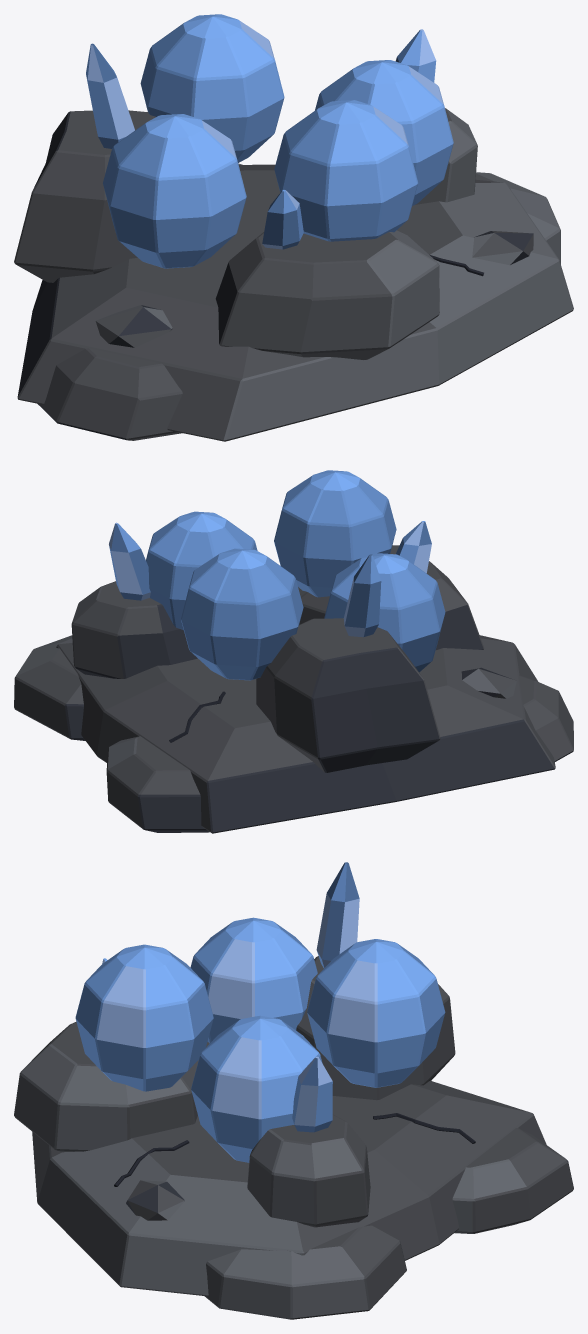
File: BH_ORE_O09_Safira_Sepulcral_V02.glb
The picture shows the model from 3 angles, top to bottom: view 1: azimuth 30°, elevation 25°; view 2: azimuth 150°, elevation 25°; view 3: azimuth 270°, elevation 25°; orthographic projection. The views are drawn at different scales.
Parts seen in each view (by area): view 1: Bedrock | primary.003, O09 | fractured stone 3.003, Sapphire dodeca-like core 3.003, Sapphire dodeca-like core 4.003, Sapphire dodeca-like core 2.003, O09 | fractured stone 2.003, Bedrock | shoulder 1.003, Sapphire dodeca-like core 1.003, O09 | V02 secondary crystal 2.001, O09 | fractured stone 1.003, O09 | V02 embedded stone ledge.002, O09 | V02 secondary crystal 0.001 (+3 smaller); view 2: Bedrock | primary.003, O09 | fractured stone 2.003, Sapphire dodeca-like core 2.003, Sapphire dodeca-like core 4.003, O09 | fractured stone 1.003, Bedrock | shoulder 3.003, Sapphire dodeca-like core 3.003, Sapphire dodeca-like core 1.003, Bedrock | shoulder 2.003, O09 | fractured stone 3.003, Bedrock | shoulder 1.003, O09 | V02 secondary crystal 2.001 (+3 smaller); view 3: Bedrock | primary.003, Sapphire dodeca-like core 2.003, Sapphire dodeca-like core 4.003, Bedrock | shoulder 2.003, O09 | fractured stone 3.003, Sapphire dodeca-like core 1.003, O09 | fractured stone 1.003, Sapphire dodeca-like core 3.003, Bedrock | shoulder 3.003, O09 | fractured stone 2.003, O09 | V02 secondary crystal 2.001, O09 | V02 secondary crystal 1.001 (+1 smaller).
Boxes of the visible parts, <box> form: Bedrock | primary.003: <box>17,164,573,441</box>; O09 | fractured stone 3.003: <box>215,230,439,359</box>; Sapphire dodeca-like core 3.003: <box>103,114,246,268</box>; Sapphire dodeca-like core 4.003: <box>274,100,417,241</box>; Sapphire dodeca-like core 2.003: <box>140,14,284,162</box>; O09 | fractured stone 2.003: <box>14,110,155,282</box>; Bedrock | shoulder 1.003: <box>37,348,182,440</box>; Sapphire dodeca-like core 1.003: <box>315,60,453,205</box>; O09 | V02 secondary crystal 2.001: <box>86,43,134,148</box>; O09 | fractured stone 1.003: <box>415,108,477,204</box>; O09 | V02 embedded stone ledge.002: <box>95,305,172,347</box>; O09 | V02 secondary crystal 0.001: <box>262,190,303,249</box>; Bedrock | primary.003: <box>56,635,555,833</box>; O09 | fractured stone 2.003: <box>256,618,440,772</box>; Sapphire dodeca-like core 2.003: <box>181,548,303,680</box>; Sapphire dodeca-like core 4.003: <box>274,470,396,597</box>; O09 | fractured stone 1.003: <box>71,581,197,678</box>; Bedrock | shoulder 3.003: <box>106,736,209,832</box>; Sapphire dodeca-like core 3.003: <box>324,553,445,672</box>; Sapphire dodeca-like core 1.003: <box>146,511,257,630</box>; Bedrock | shoulder 2.003: <box>14,635,85,740</box>; O09 | fractured stone 3.003: <box>298,545,484,649</box>; Bedrock | shoulder 1.003: <box>519,675,573,761</box>; O09 | V02 secondary crystal 2.001: <box>343,554,381,637</box>; Bedrock | primary.003: <box>32,1042,546,1296</box>; Sapphire dodeca-like core 2.003: <box>307,939,445,1087</box>; Sapphire dodeca-like core 4.003: <box>75,944,213,1091</box>; Bedrock | shoulder 2.003: <box>204,1225,406,1319</box>; O09 | fractured stone 3.003: <box>14,1021,198,1152</box>; Sapphire dodeca-like core 1.003: <box>191,1015,322,1162</box>; O09 | fractured stone 1.003: <box>247,1114,370,1227</box>; Sapphire dodeca-like core 3.003: <box>190,917,317,1043</box>; Bedrock | shoulder 3.003: <box>452,1128,573,1233</box>; O09 | fractured stone 2.003: <box>296,956,455,1100</box>; O09 | V02 secondary crystal 2.001: <box>316,862,359,968</box>; O09 | V02 secondary crystal 1.001: <box>292,1056,332,1132</box>.
Bounding box in the file's own units: 2.83 × 1.38 × 2.52.
